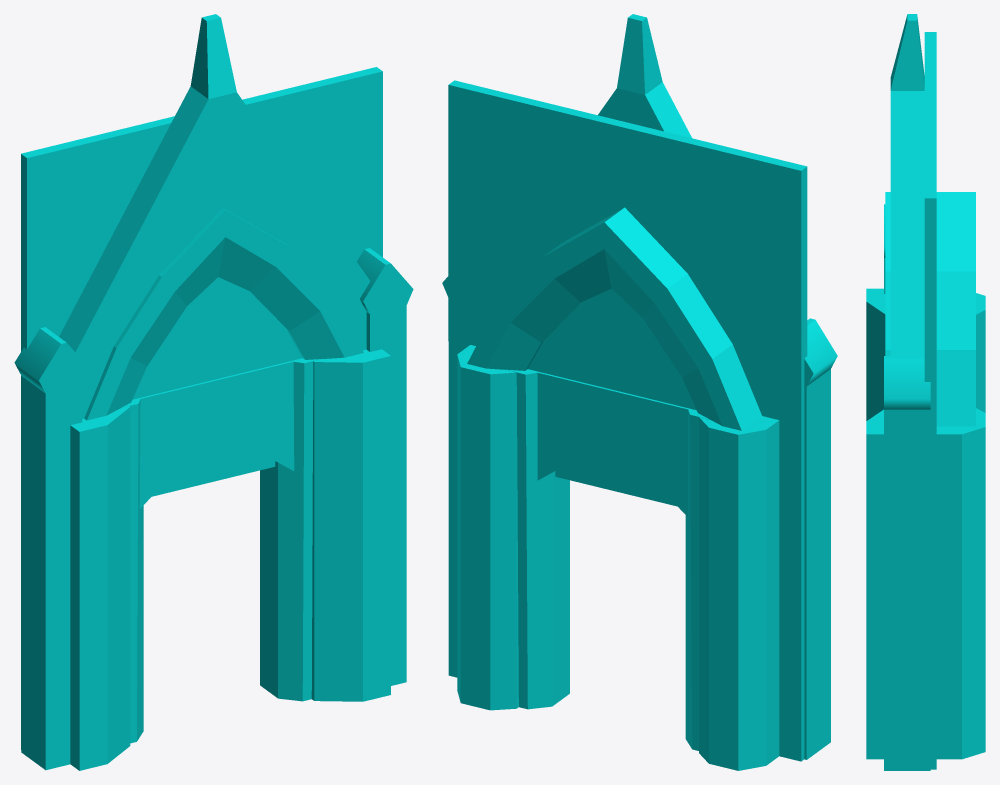
Rendered from SM_Bld_Wall_Door_Large_02_Collision.fbx.
3 views of the same model, side by side, from view 1: azimuth 30°, elevation 25°; view 2: azimuth 150°, elevation 25°; view 3: azimuth 270°, elevation 25° (orthographic). The views are drawn at different scales.
Visible parts, largest first — view 1: SM_Bld_Wall_Door_Large_02_Collision; view 2: SM_Bld_Wall_Door_Large_02_Collision; view 3: SM_Bld_Wall_Door_Large_02_Collision.
Boxes of the visible parts, box(x1,y1,x2,y2) form: SM_Bld_Wall_Door_Large_02_Collision: box(14, 14, 413, 770); SM_Bld_Wall_Door_Large_02_Collision: box(442, 14, 837, 770); SM_Bld_Wall_Door_Large_02_Collision: box(866, 14, 985, 770).
Bounding box in the file's own units: 790 × 1405 × 227.
